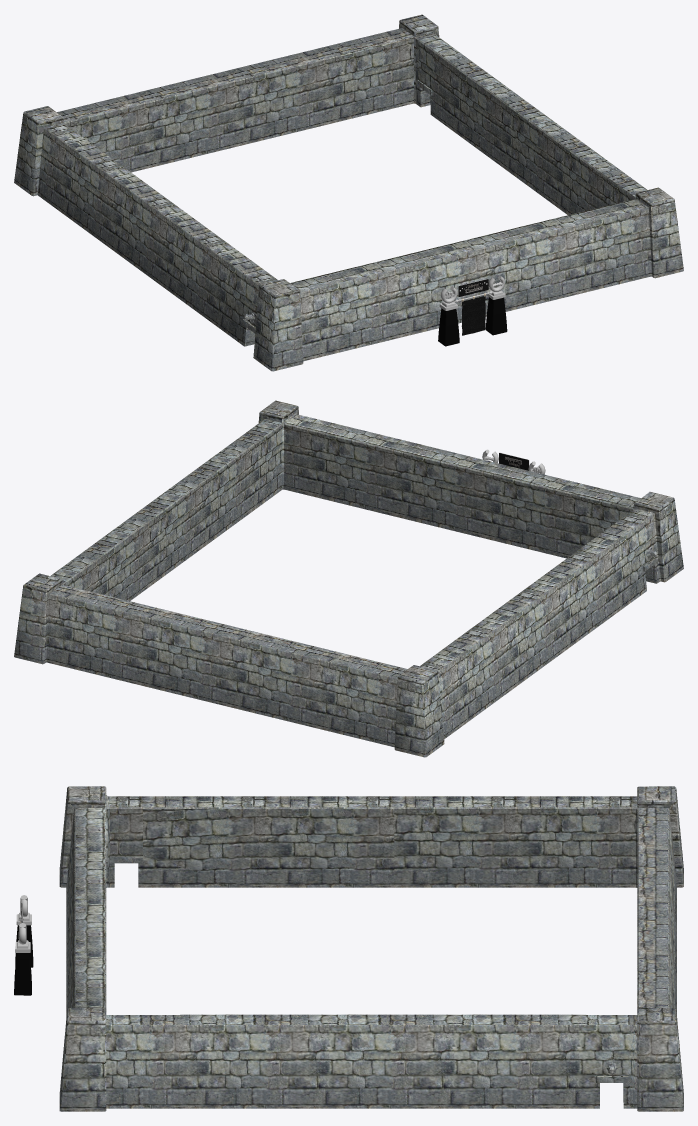
Rendered from StartScene.FBX.
3 renders of one model, top to bottom at view 1: azimuth 30°, elevation 25°; view 2: azimuth 150°, elevation 25°; view 3: azimuth 270°, elevation 25°, orthographic. The views are drawn at different scales.
Visible parts, largest first — view 1: Outer Wall, Steli Music, Steli Water, Tapestry; view 2: Outer Wall; view 3: Outer Wall, Steli Water, Steli Music.
Part boxes in pixels (box(x1,y1,x2,y2)): Outer Wall: box(14, 14, 683, 371); Steli Music: box(438, 286, 459, 346); Steli Water: box(485, 275, 507, 335); Tapestry: box(461, 296, 485, 335); Outer Wall: box(14, 400, 683, 757); Outer Wall: box(59, 786, 683, 1111); Steli Water: box(14, 923, 31, 995); Steli Music: box(15, 895, 33, 967).
Bounding box in the file's own units: 207 × 241 × 34.42.
